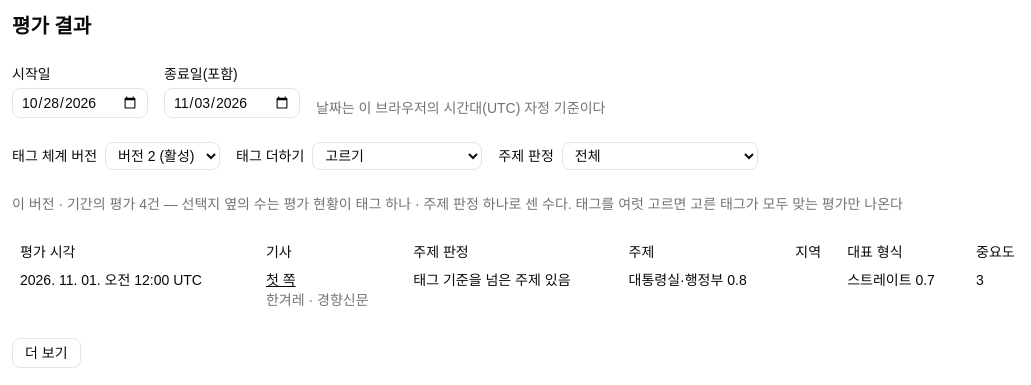
EvaluationListPage › 더 보기가 마지막 쪽의 커서로 이어 받는다
Check: the link "첫 쪽" is shown, box left=266, top=272, right=296, bottom=288
Click the button "더 보기" at (46, 353), box left=12, top=338, right=80, bottom=368
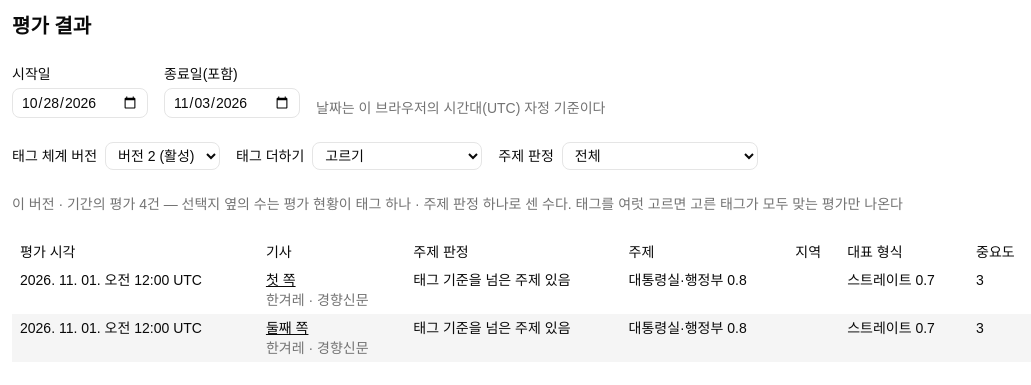
Check: the link "둘째 쪽" is shown, box left=266, top=320, right=308, bottom=336
Check: the button "더 보기" is gone
